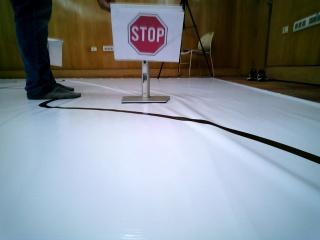stop: (122, 7, 180, 58)
